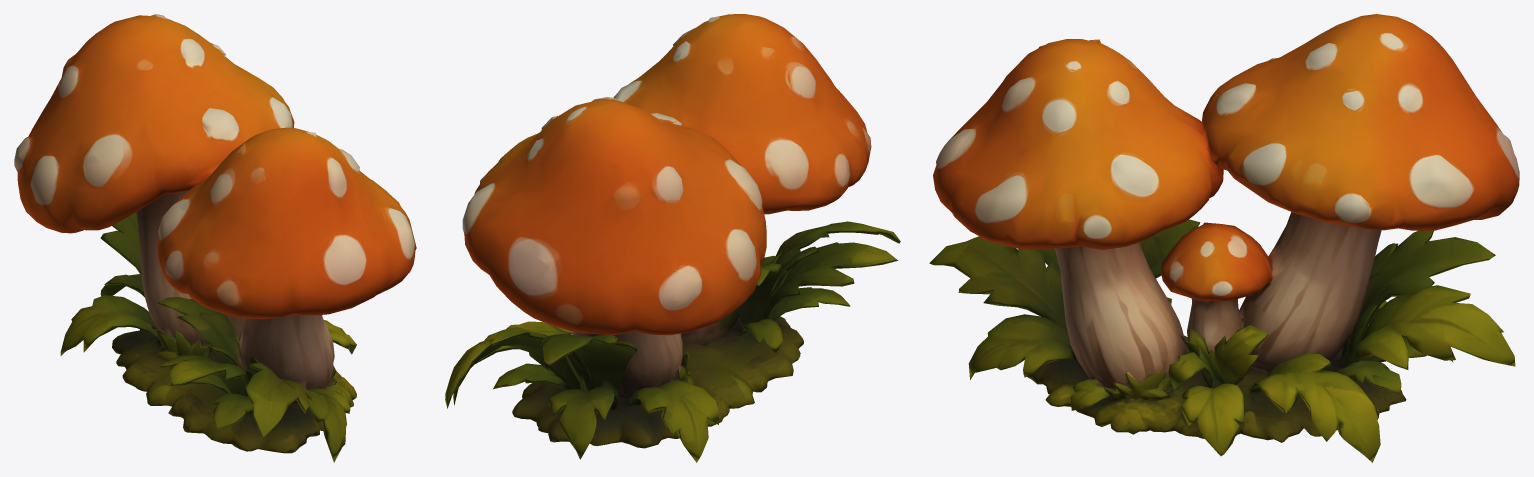
The model's file is mushroom.glb.
3 renders of one model, left to right at view 1: azimuth 30°, elevation 25°; view 2: azimuth 150°, elevation 25°; view 3: azimuth 270°, elevation 25°, orthographic. The views are drawn at different scales.
Parts seen in each view (by area): view 1: tripo_node_2d89de9d-0b9f-4d7a-ab1b-2255be217610; view 2: tripo_node_2d89de9d-0b9f-4d7a-ab1b-2255be217610; view 3: tripo_node_2d89de9d-0b9f-4d7a-ab1b-2255be217610.
Boxes of the visible parts, box(x1,y1,x2,y2) form: tripo_node_2d89de9d-0b9f-4d7a-ab1b-2255be217610: box(14, 14, 416, 462); tripo_node_2d89de9d-0b9f-4d7a-ab1b-2255be217610: box(445, 14, 900, 462); tripo_node_2d89de9d-0b9f-4d7a-ab1b-2255be217610: box(929, 14, 1519, 462).
Bounding box in the file's own units: 0.611 × 0.673 × 1.
Materials: 1 (1 with a texture image).
